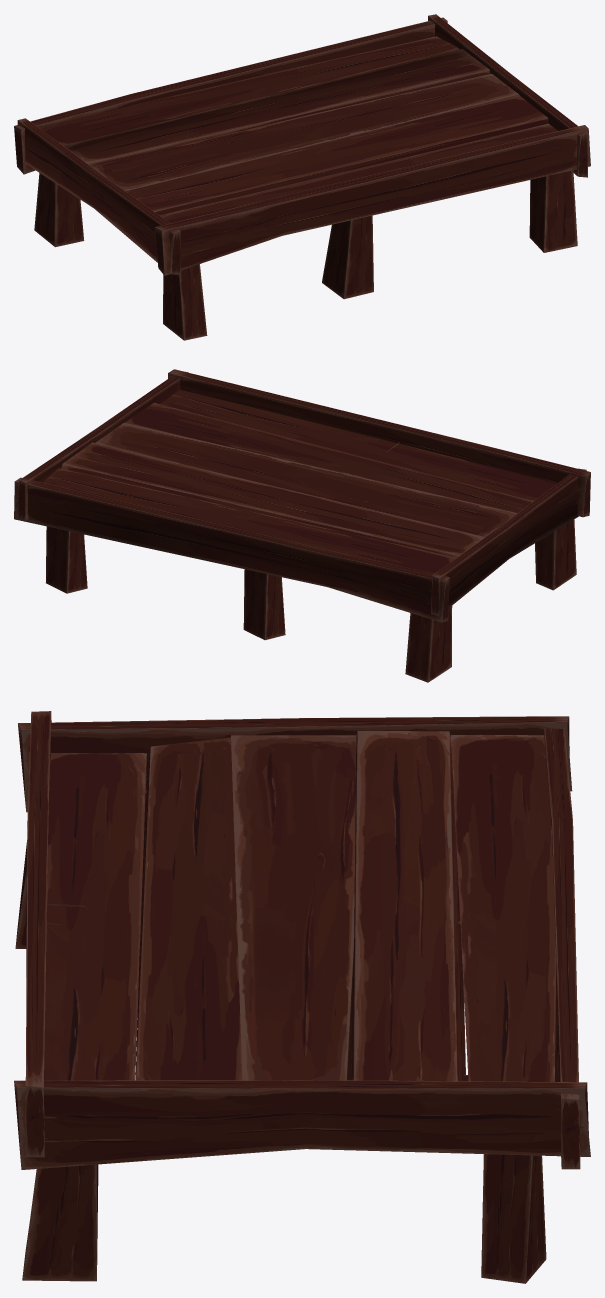
The model's file is SM_PROP_foundation_wood_04.fbx.
The picture shows the model from 3 angles, top to bottom: view 1: azimuth 30°, elevation 25°; view 2: azimuth 150°, elevation 25°; view 3: azimuth 270°, elevation 25°; orthographic projection. The views are drawn at different scales.
Visible parts, largest first — view 1: SM_PROP_foundation_wood_04; view 2: SM_PROP_foundation_wood_04; view 3: SM_PROP_foundation_wood_04.
Boxes of the visible parts, box(x1,y1,x2,y2) form: SM_PROP_foundation_wood_04: box(14, 14, 590, 340); SM_PROP_foundation_wood_04: box(14, 369, 590, 682); SM_PROP_foundation_wood_04: box(14, 711, 590, 1283).
Size of the model in its own units: 419 by 105 by 266.
